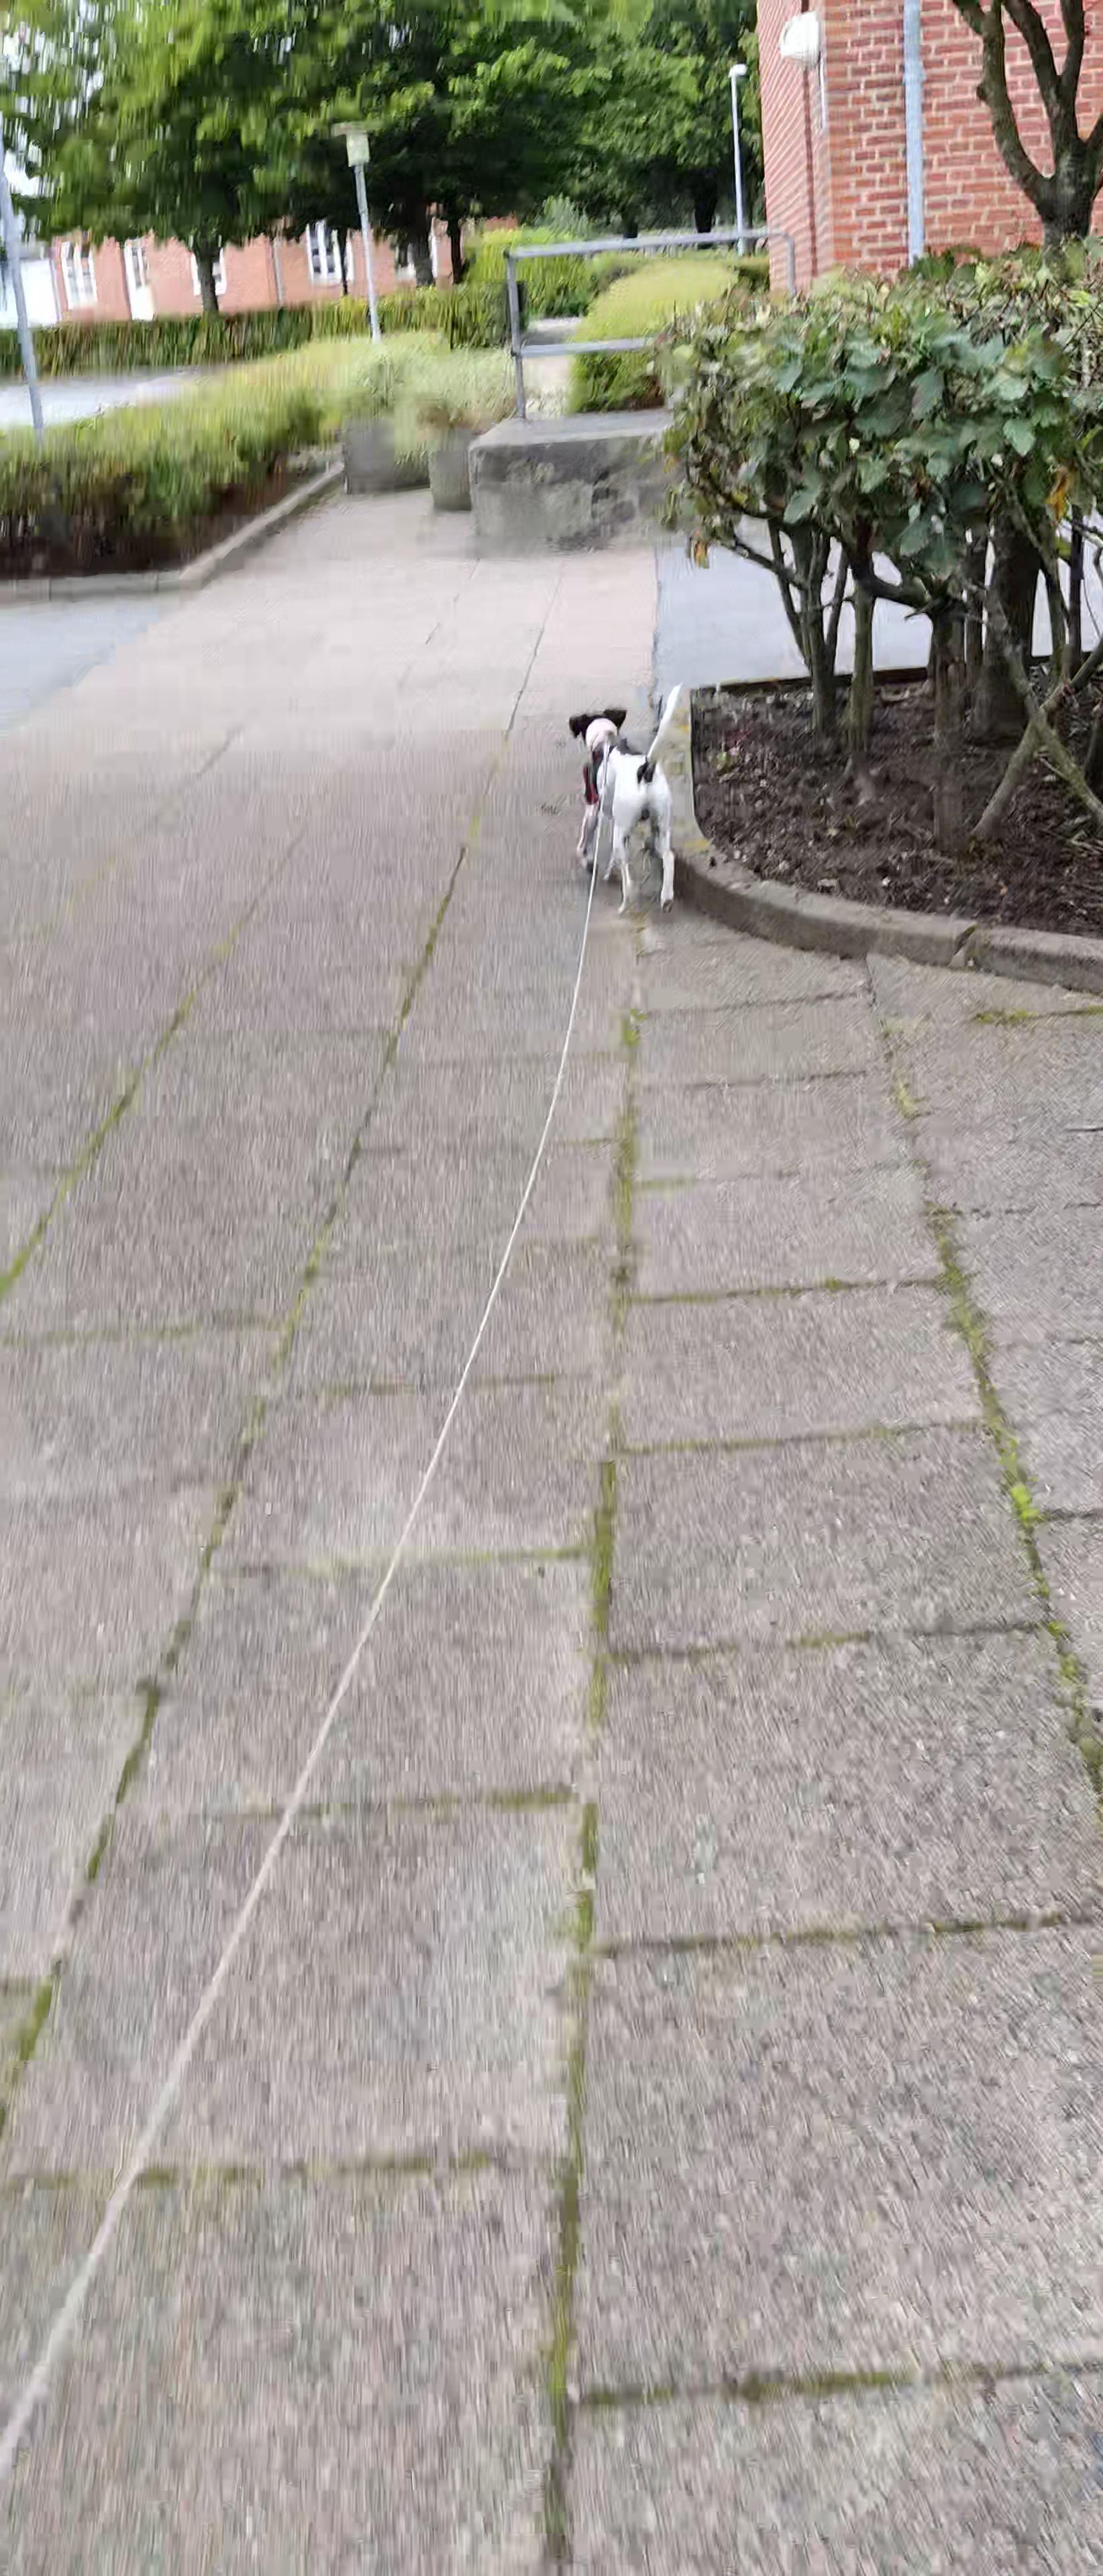Dog: (565, 680, 685, 918)
